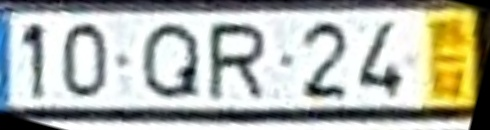0: (60, 18, 108, 102)
1: (18, 18, 48, 103)
2: (299, 19, 350, 106)
4: (354, 18, 405, 104)
Q: (138, 19, 203, 102)
R: (206, 20, 270, 103)
